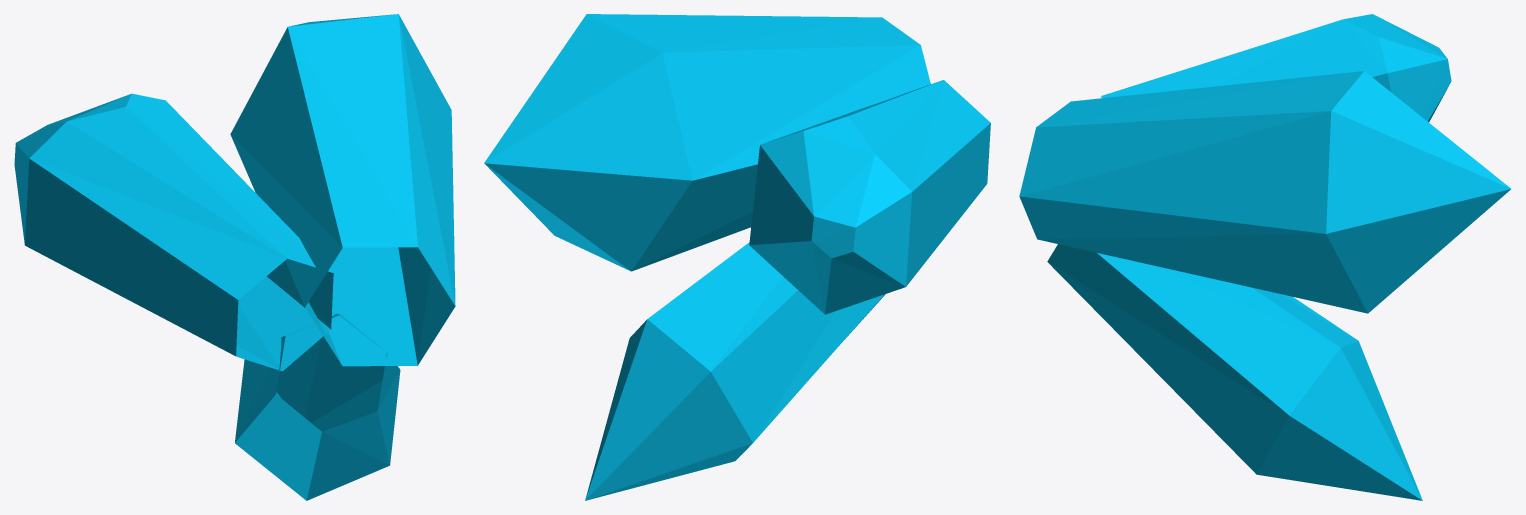
The model's file is Crystal 02.FBX.
3 views of the same model, side by side, from view 1: azimuth 30°, elevation 25°; view 2: azimuth 150°, elevation 25°; view 3: azimuth 270°, elevation 25° (orthographic). The views are drawn at different scales.
Visible parts, largest first — view 1: Crystal 02; view 2: Crystal 02; view 3: Crystal 02.
Boxes of the visible parts, x1,y1,x2,y2 form: Crystal 02: (14,14,455,500); Crystal 02: (484,14,990,500); Crystal 02: (1019,14,1510,500).
Size of the model in its own units: 62.79 by 66.19 by 71.73.
